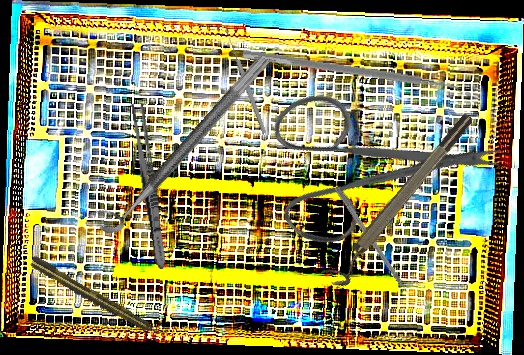Dressing Forceps: (127, 101, 171, 271)
Fixation Ring: (87, 41, 271, 240), (320, 110, 484, 292)
Handpiece: (28, 254, 168, 343)
Hook Surgical: (332, 186, 416, 304)
Iris Scissors: (230, 19, 511, 298)
Spatula Surgical: (240, 49, 468, 100)
Surgical Spoon: (223, 27, 268, 135)
